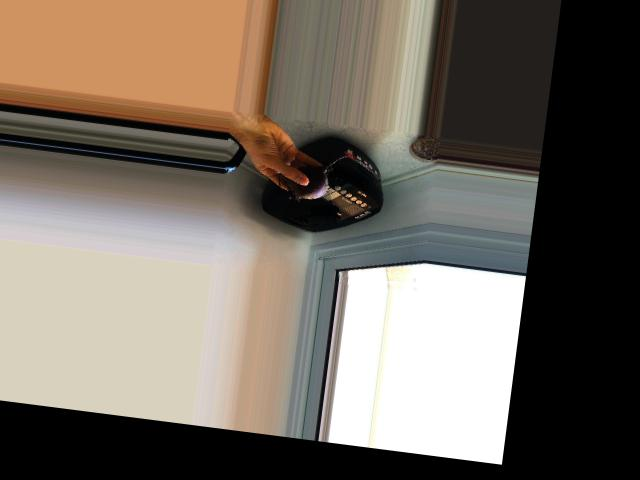beet: (277, 147, 347, 206)
